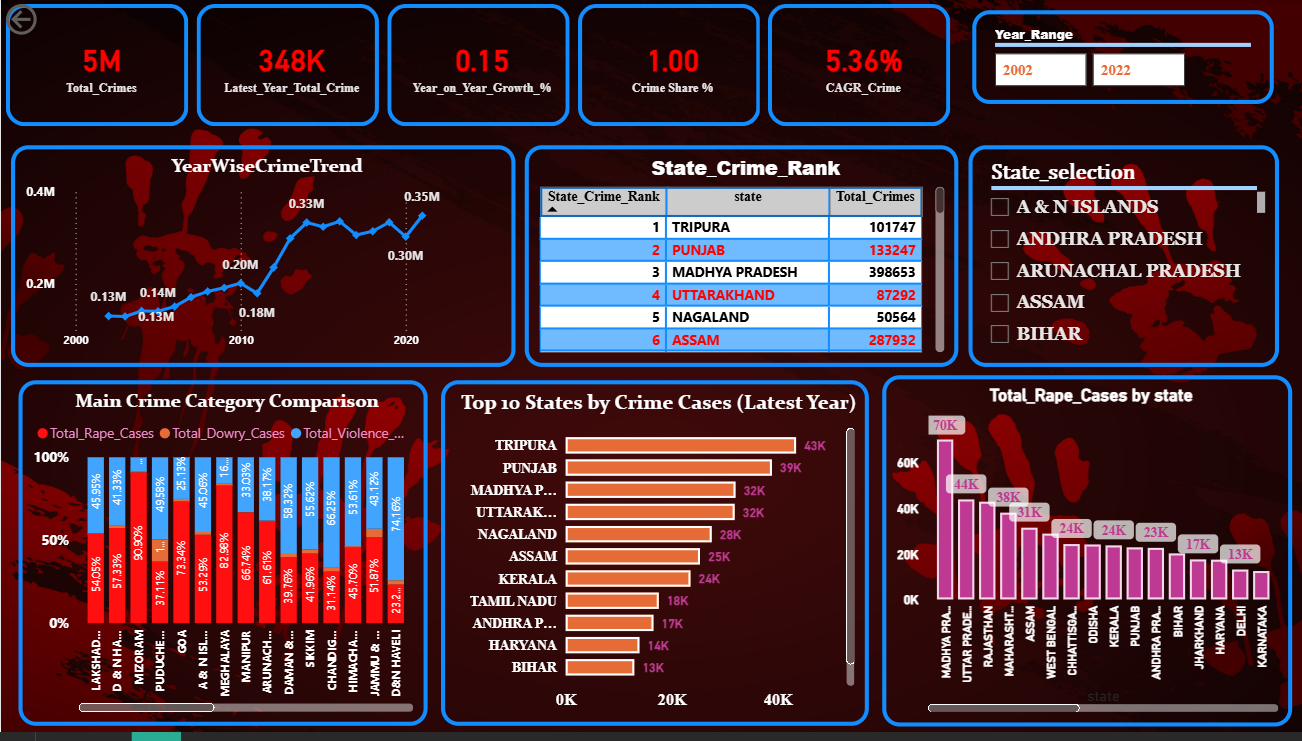

The page's visual inventory and layout, read from the dashboard file:
{"tool":"powerbi","page":{"name":"Page 1","canvas":[1280,720],"ordinal":0},"visuals":[{"type":"cardVisual","fields":{"Data":["All_Measures.Total_Crimes","All_Measures.Latest_Year_Total_Crime","All_Measures.Year-on-Year Growth %","All_Measures.Crime Share %","All_Measures.CAGR_Crime"]},"box":[0,19.6,939.9,112.9],"z":0},{"type":"lineChart","title":"YearWiseCrimeTrend","fields":{"Category":["Women_Crime_Data.year"],"Y":["All_Measures.Total_Crimes"]},"box":[9.9,143.2,495.1,217.3],"z":1000},{"type":"clusteredBarChart","title":"Top 10 States by Crime Cases (Latest Year)","fields":{"Category":["Women_Crime_Data.state"],"Y":["All_Measures.Latest_Year_Total_Crime"]},"box":[432.1,374.1,419.8,339.5],"z":2000},{"type":"tableEx","title":"State_Crime_Rank","fields":{"Values":["All_Measures.State_Crime_Rank","Women_Crime_Data.state","All_Measures.Total_Crimes"]},"box":[513.6,143.2,425.9,217.3],"z":3000},{"type":"actionButton","box":[0,0,100,40],"z":4000},{"type":"hundredPercentStackedColumnChart","title":" Main Crime Category Comparison","fields":{"Category":["Women_Crime_Data.state"],"Y":["All_Measures.Total_Rape_Cases","All_Measures.Total_Dowry_Cases","All_Measures.Total_Violence_Cases"]},"box":[17.3,374.1,401.2,339.5],"z":5000},{"type":"lineClusteredColumnComboChart","fields":{"Category":["Women_Crime_Data.state"],"Y":["All_Measures.Total_Rape_Cases"]},"box":[865.4,369.1,402.5,344.4],"z":6000},{"type":"slicer","title":"year range","fields":{"Values":["Women_Crime_Data.year"]},"box":[953.1,39.5,296.3,91.4],"z":7000},{"type":"slicer","fields":{"Values":["Women_Crime_Data.state"]},"box":[949.4,143.2,304.9,217.3],"z":8000}]}

Visuals, with their boxes in screenshot pixels (x1, y1, x2, y2), scaled from the page's 1280x720 canvas onto the 1302x741 screenshot:
cardVisual - All_Measures.Total_Crimes x All_Measures.Latest_Year_Total_Crime: bbox(0, 20, 956, 136)
"YearWiseCrimeTrend" lineChart: bbox(10, 147, 514, 371)
"Top 10 States by Crime Cases (Latest Year)" clusteredBarChart: bbox(440, 385, 867, 734)
"State_Crime_Rank" tableEx: bbox(522, 147, 956, 371)
actionButton: bbox(0, 0, 102, 41)
" Main Crime Category Comparison" hundredPercentStackedColumnChart: bbox(18, 385, 426, 734)
lineClusteredColumnComboChart - Women_Crime_Data.state x All_Measures.Total_Rape_Cases: bbox(880, 380, 1290, 734)
"year range" slicer: bbox(969, 41, 1271, 135)
slicer - Women_Crime_Data.state: bbox(966, 147, 1276, 371)
